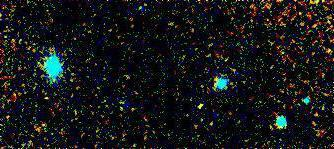star: (190, 90, 220, 120)
